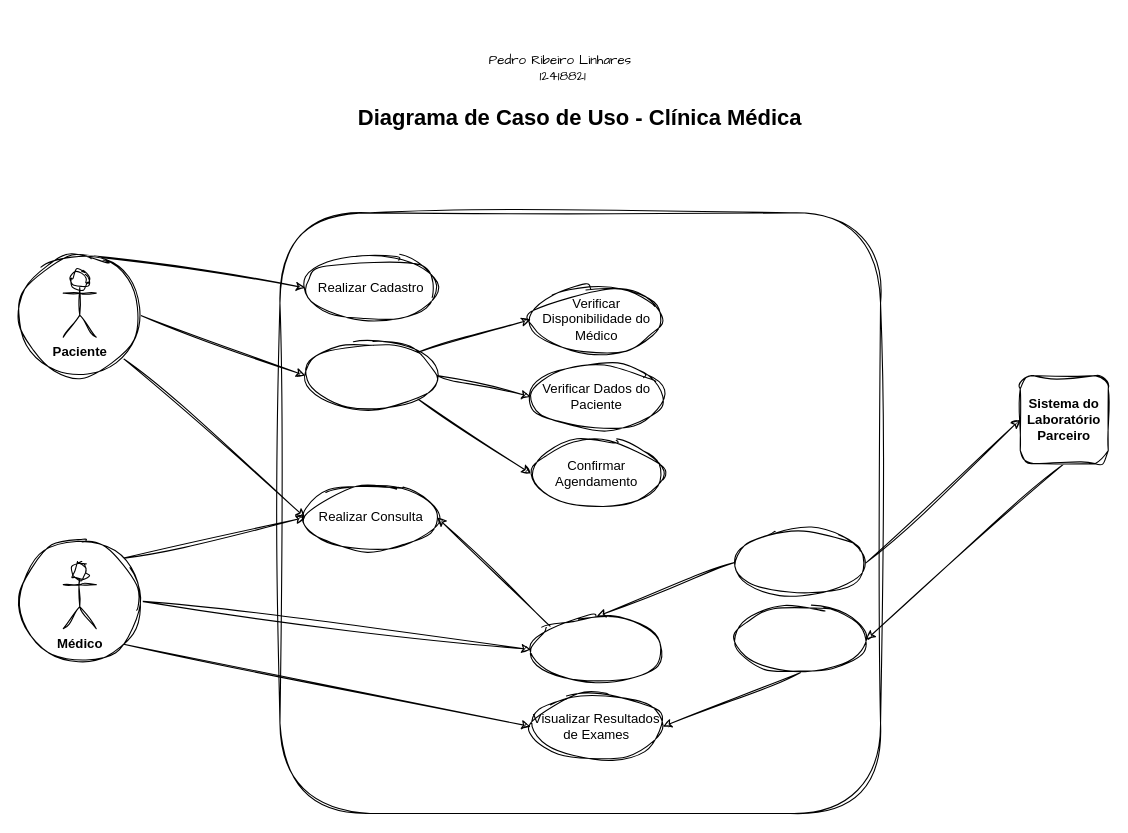
Some shapes in this 1128 by 833 pixel diagram are drawn without their labels. Each missing label, with the box of its shape:
Enxaminhar Dados ao Laboratório: (733, 529, 866, 596)
Realizar Agendamento: (304, 342, 437, 409)
Receber Resultados de Exames: (733, 606, 866, 673)
Solicitar Exames: (530, 615, 663, 683)
